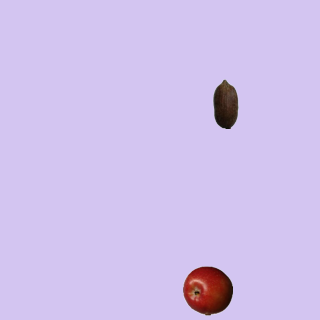Apple Braeburn: (182, 265, 232, 315)
Nut Pecan: (200, 78, 250, 128)
